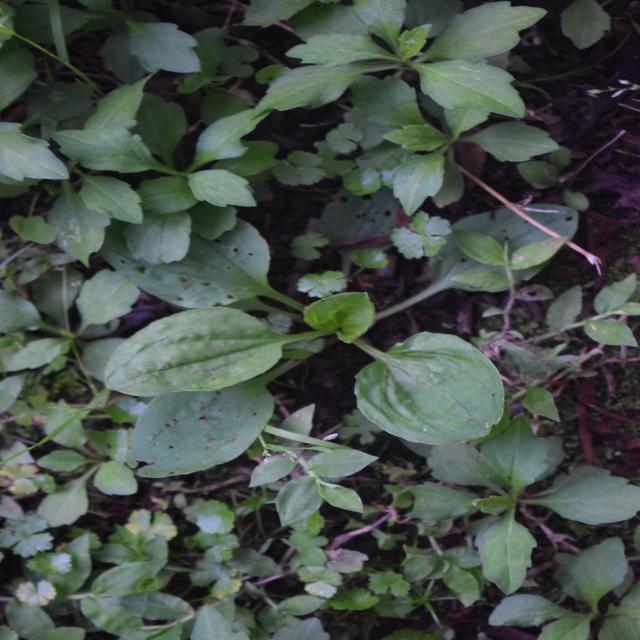plantain: (156, 80, 440, 531)
